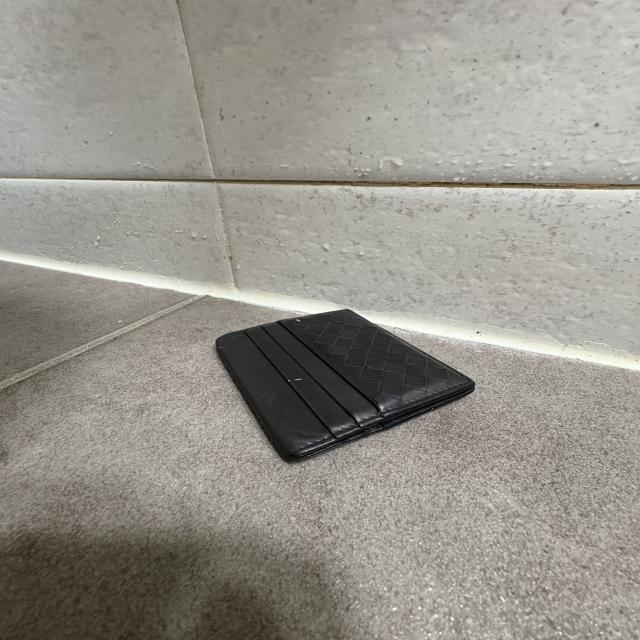wallet: (218, 310, 487, 462)
